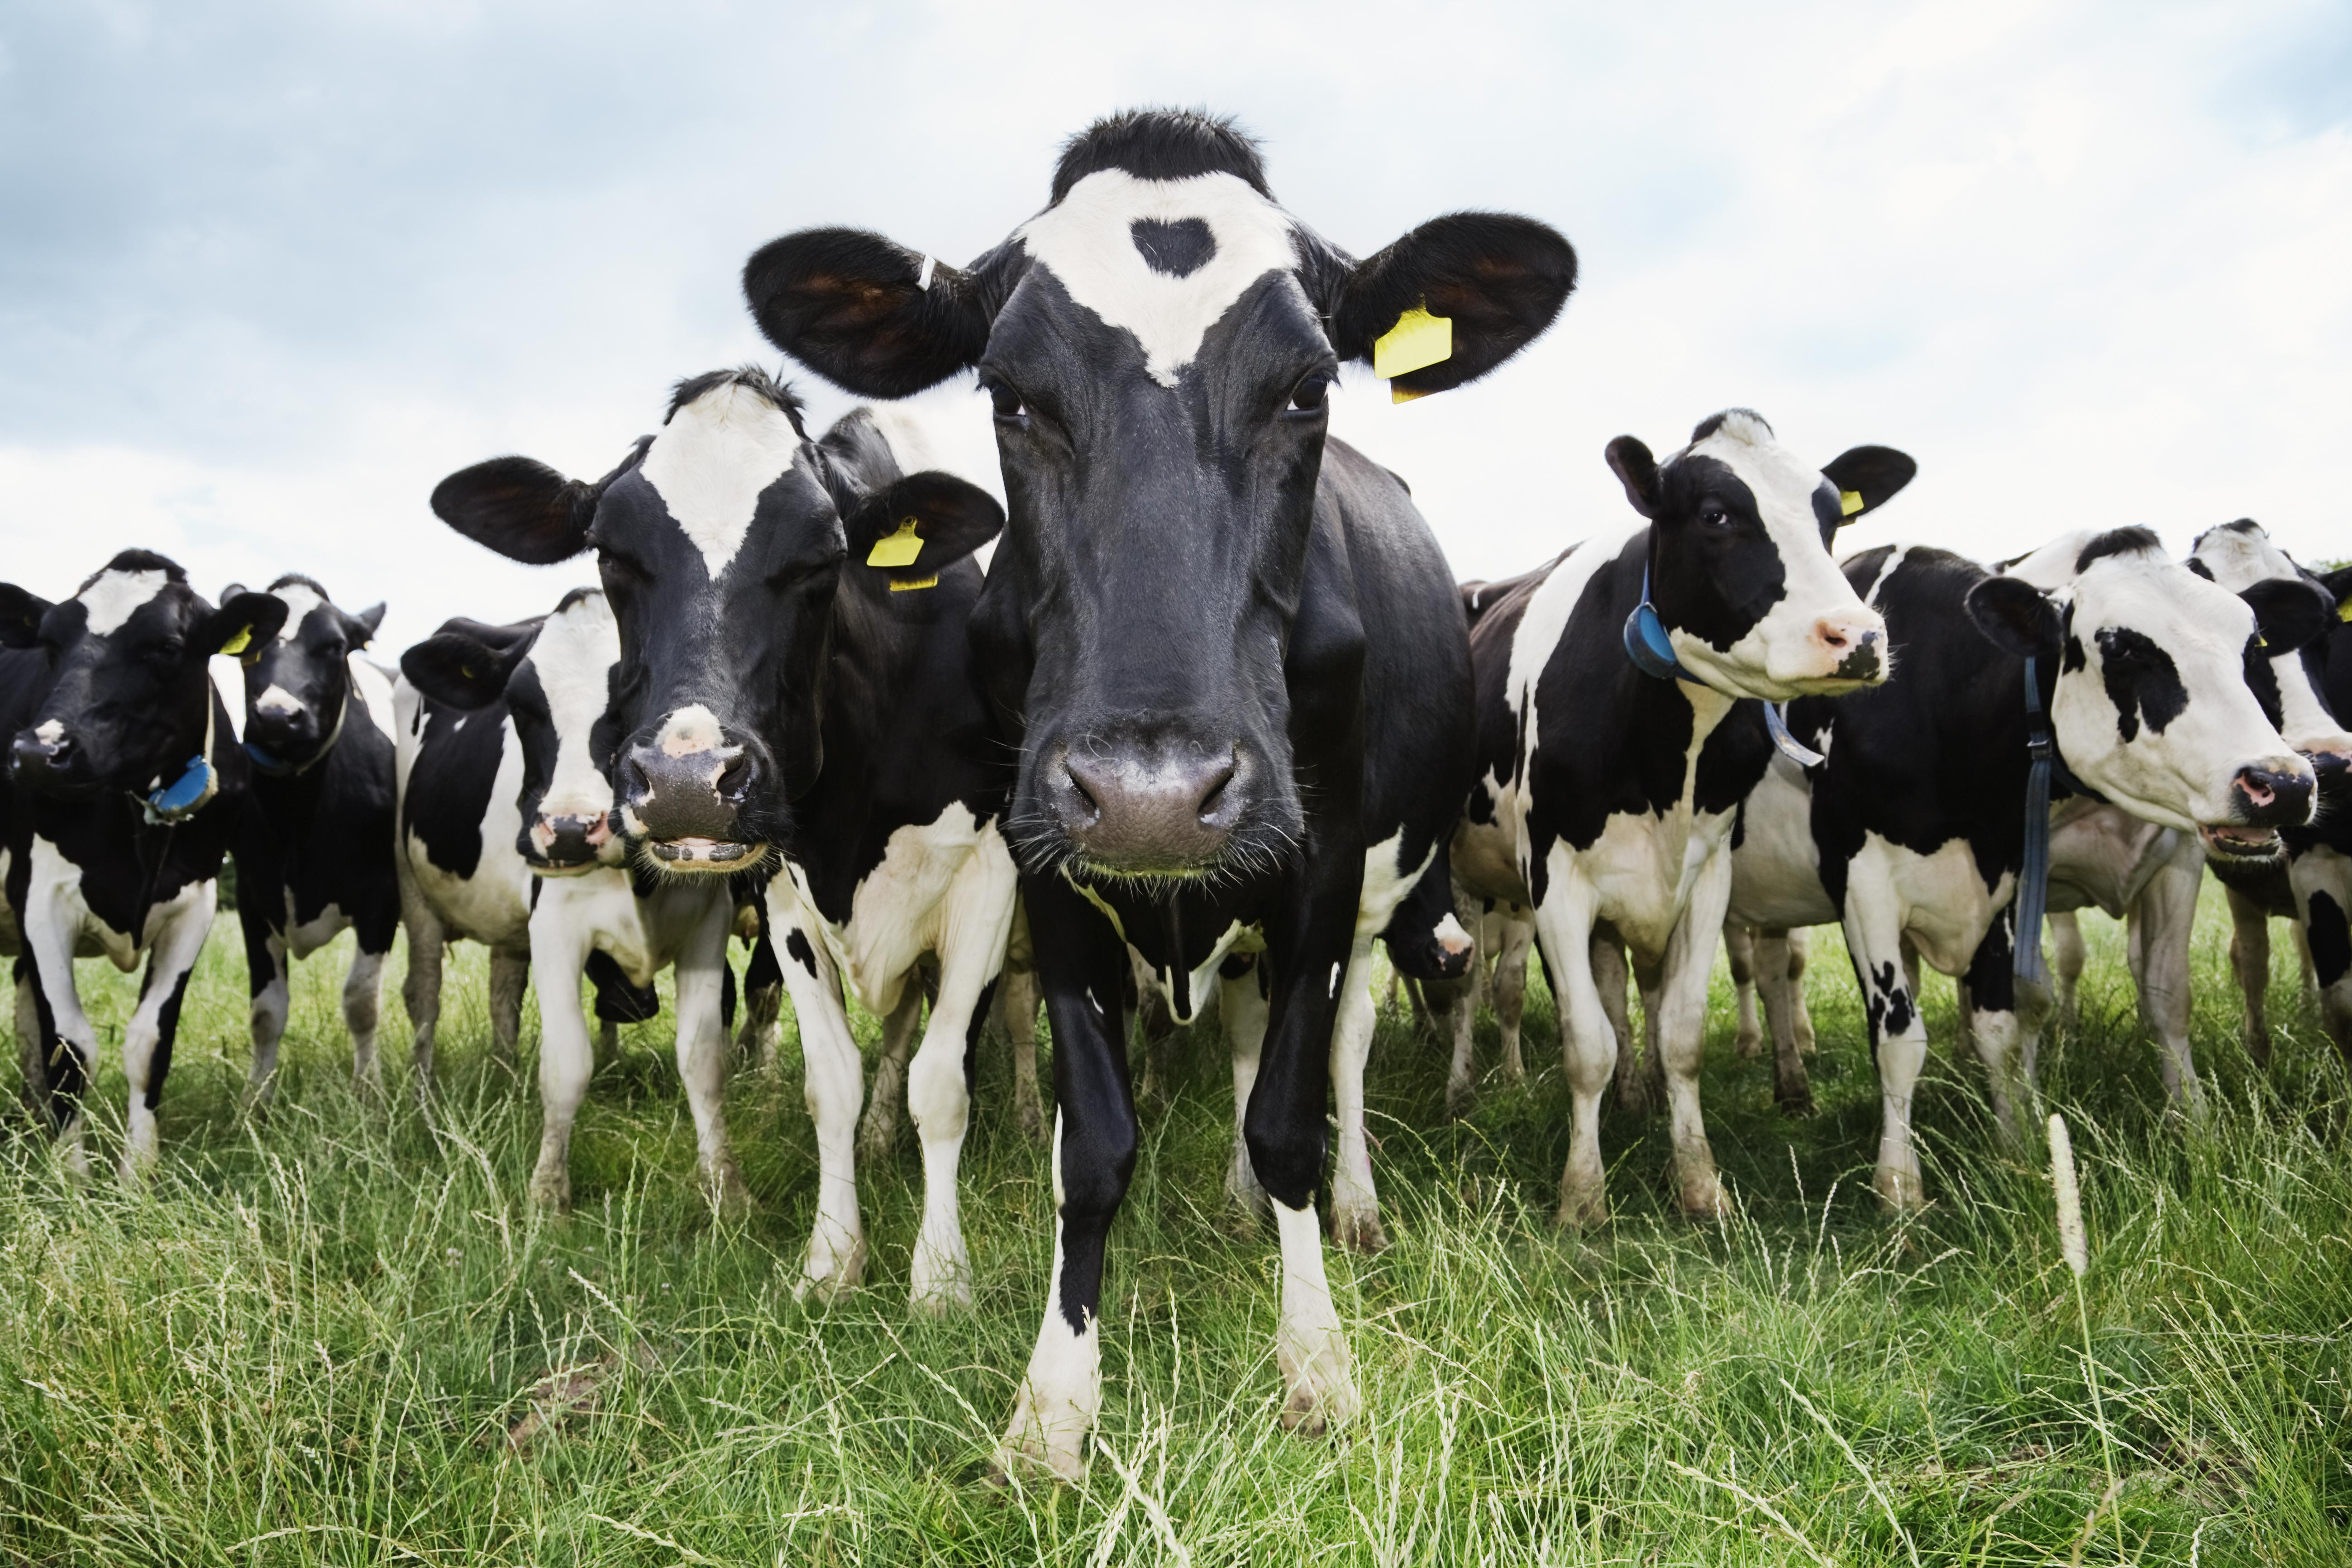muzzles: (996, 717, 1300, 899), (602, 716, 791, 878), (2180, 737, 2334, 871), (1774, 591, 1907, 709), (2, 721, 126, 805)
